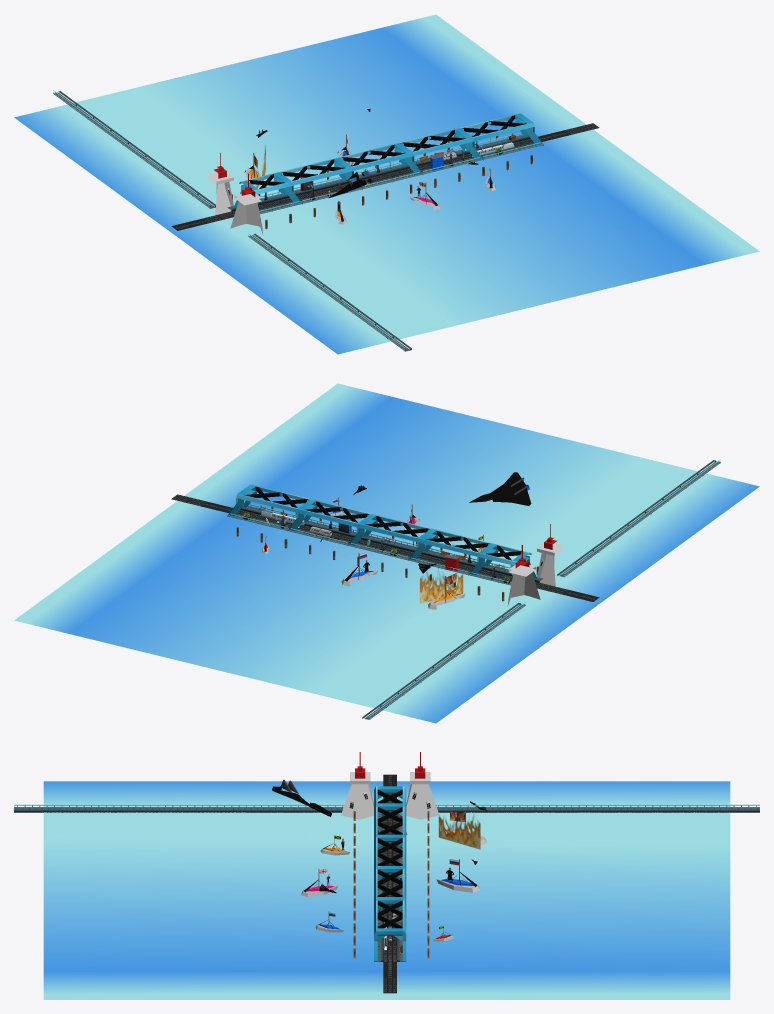
The model's file is subwaysurferstest65.glb.
The picture shows the model from 3 angles, top to bottom: view 1: azimuth 30°, elevation 25°; view 2: azimuth 150°, elevation 25°; view 3: azimuth 270°, elevation 25°; orthographic projection. The views are drawn at different scales.
Parts seen in each view (by area): view 1: Water, Overpass.002, Overpass, Overpass.001, Overpass.003, lighttower, Overpass.004, lighttower.001; view 2: Water, Overpass, Overpass.001, Overpass.002, Overpass.003, Plane1.001, lighttower.001, Overpass.004, Fire, lighttower; view 3: Water, lighttower, lighttower.001, Overpass, Fire, Overpass.001, Overpass.003, Overpass.002, Overpass.004, boat1.006, Plane1.001.
Part boxes in pixels (x1,y1,x2,y2): Water: (14,14,759,354); Overpass.002: (340,142,422,174); Overpass: (460,113,543,145); Overpass.001: (400,128,482,159); Overpass.003: (280,157,362,189); lighttower: (230,173,263,235); Overpass.004: (233,172,302,207); lighttower.001: (207,153,233,215); Water: (14,383,759,723); Overpass: (227,484,310,516); Overpass.001: (288,499,370,530); Overpass.002: (348,514,430,545); Overpass.003: (408,528,491,560); Plane1.001: (469,472,531,505); lighttower.001: (507,545,540,606); Overpass.004: (469,543,537,578); Fire: (420,571,463,603); lighttower: (537,524,563,586); Water: (43,781,730,999); lighttower: (341,752,373,819); lighttower.001: (406,752,439,819); Overpass: (374,900,406,961); Fire: (438,815,480,849); Overpass.001: (374,869,406,909); Overpass.003: (374,806,406,847); Overpass.002: (374,837,406,878); Overpass.004: (374,786,406,816); boat1.006: (436,859,480,892); Plane1.001: (272,779,331,816).
Size of the model in its own units: 562 by 87.32 by 808.
8 materials, 8 textured.
